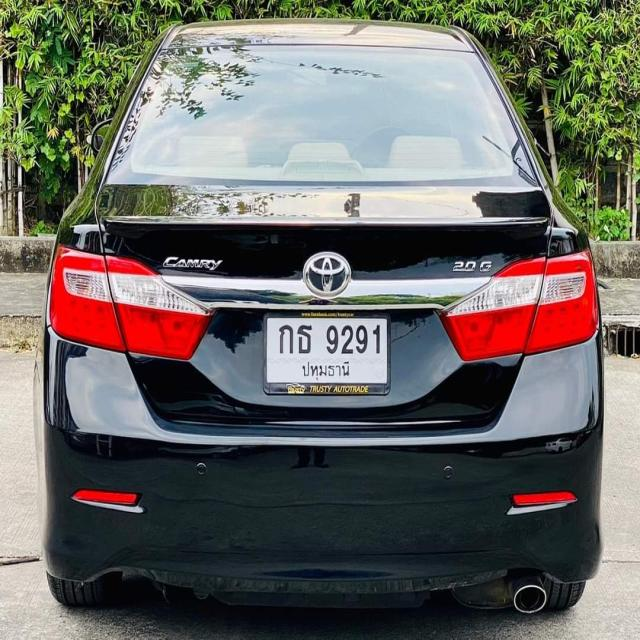license_plate: (261, 307, 394, 400)
